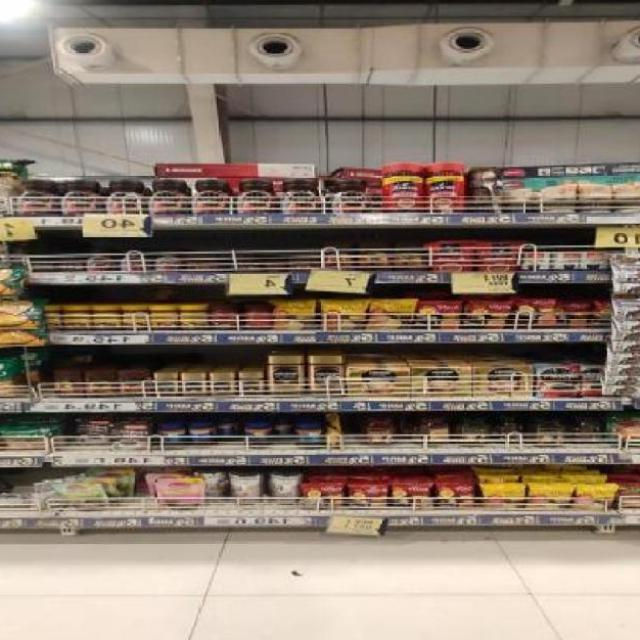Coffee: (307, 356, 346, 398), (267, 357, 306, 398), (279, 179, 323, 214), (59, 180, 103, 215), (102, 181, 146, 216), (14, 180, 56, 216), (148, 180, 190, 215), (191, 180, 232, 215), (330, 180, 371, 214), (237, 180, 276, 215), (539, 366, 579, 396), (155, 248, 183, 270), (121, 249, 149, 271), (211, 373, 234, 397), (155, 373, 178, 397), (87, 249, 112, 271), (240, 372, 262, 396), (53, 256, 84, 273), (182, 373, 204, 396), (25, 257, 53, 273)
